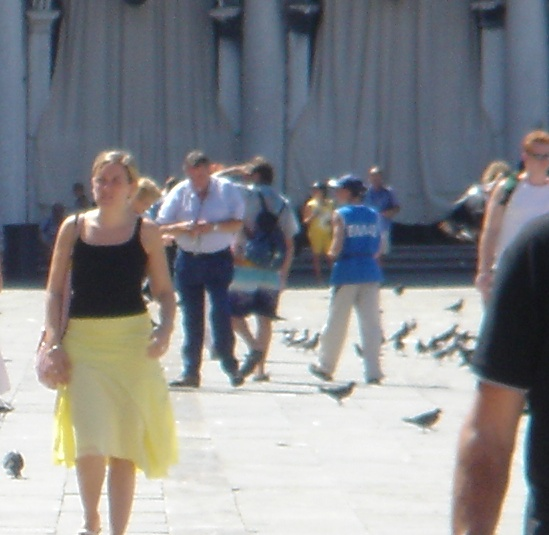person: (319, 175, 386, 383)
